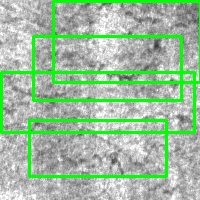crazing: (53, 1, 200, 82), (1, 72, 194, 132), (33, 36, 181, 100), (29, 120, 166, 176)
